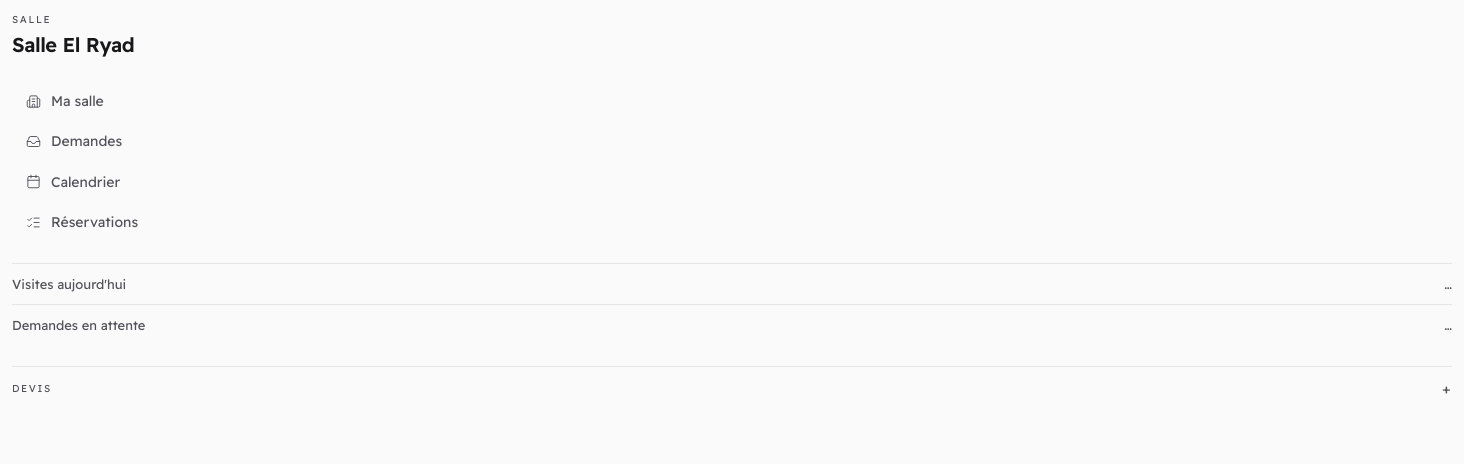
Scenario: Panneau gauche — les deux compteurs (décision ⑦) › ⚠ D120 — un résumé de devis MALFORMÉ ne fait pas tomber le panneau (chemin de RENDU)
Expected: the text "Salle El Ryad" is shown, [12,32,134,57]
What coordinates should you click on to do the following:
click the button "Devis +"
I would click on:
 (32, 389)
Its box is [12,367,1452,407].
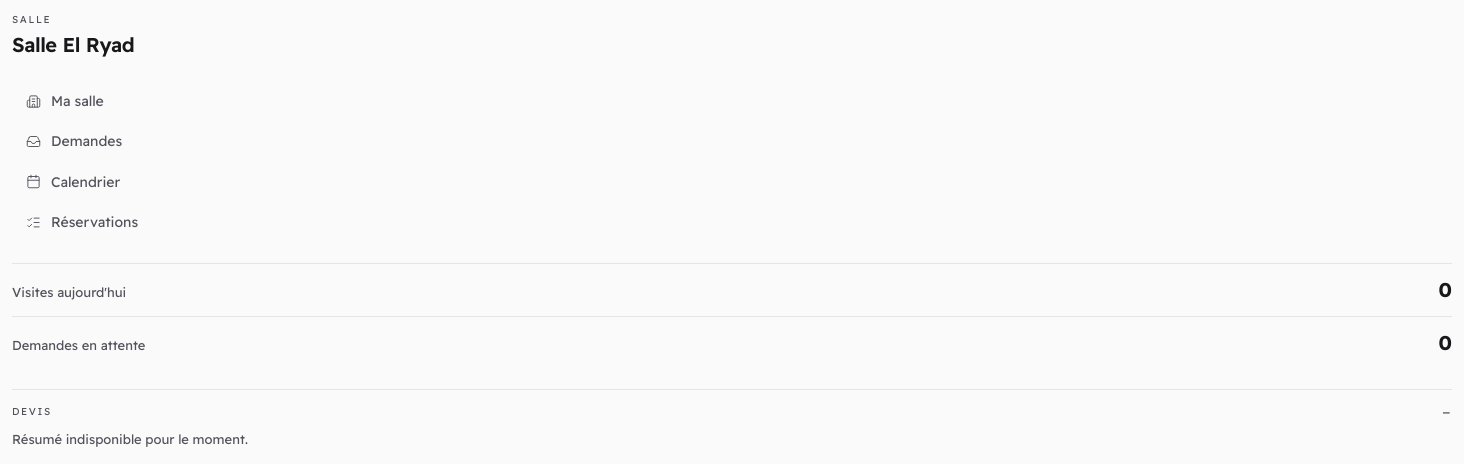
Now the text "Résumé indisponible pour le moment." is shown, box [12,431,248,447]
